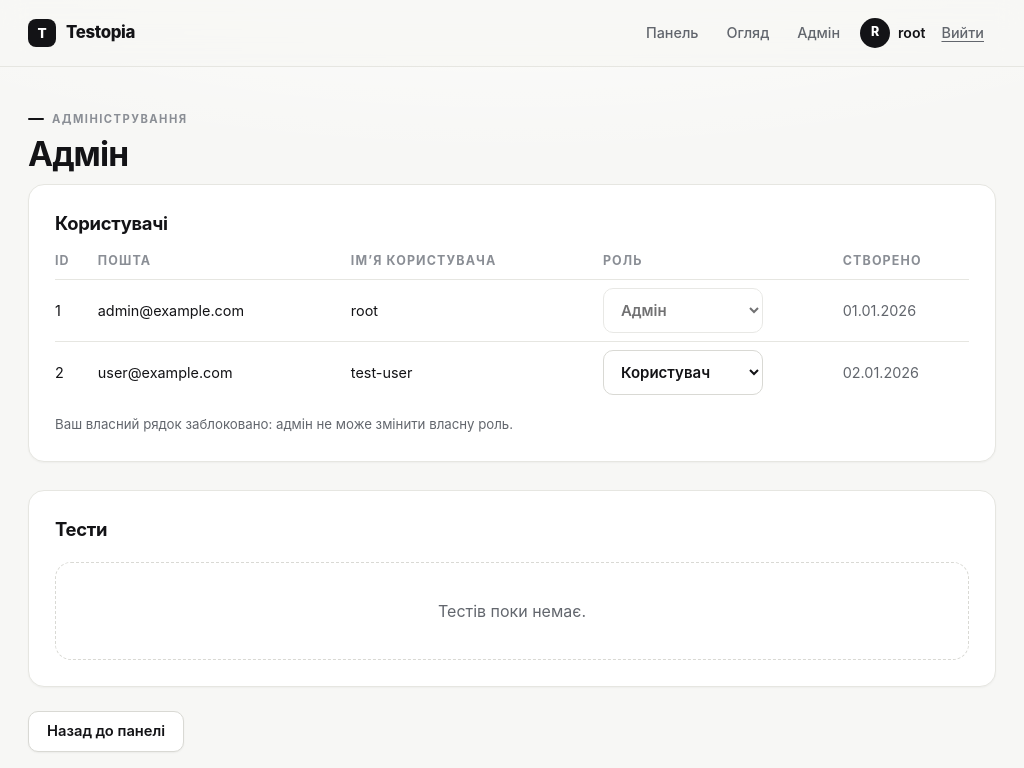
Test: AdminPage › surfaces a rejected role change without dropping the table
The width and height of the screenshot is (1024, 768).
Expected: the text "user@example.com" is shown, [98,342,351,403]
Step 1. Select "Адмін" in the dropdown named "Роль користувача test-user" → [683, 372], box [603,350,763,395]
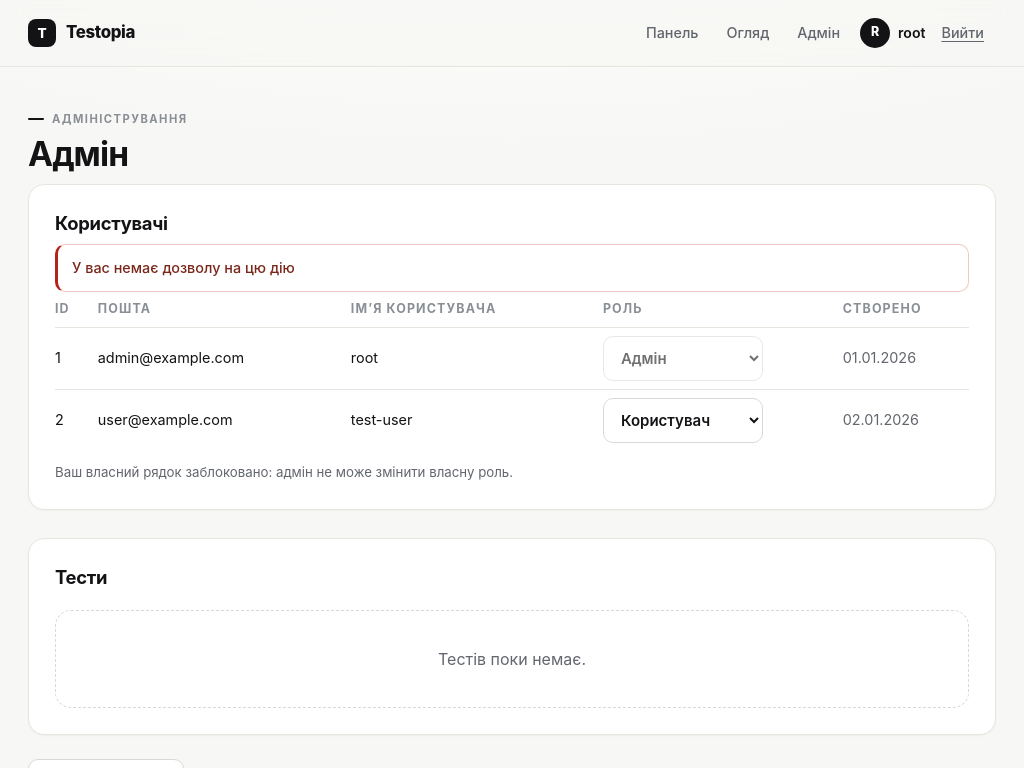
Expected: the text "user@example.com" is shown, [98,389,351,451]
Expected: the message "У вас немає дозволу на цю дію" is shown, [55,244,969,292]
